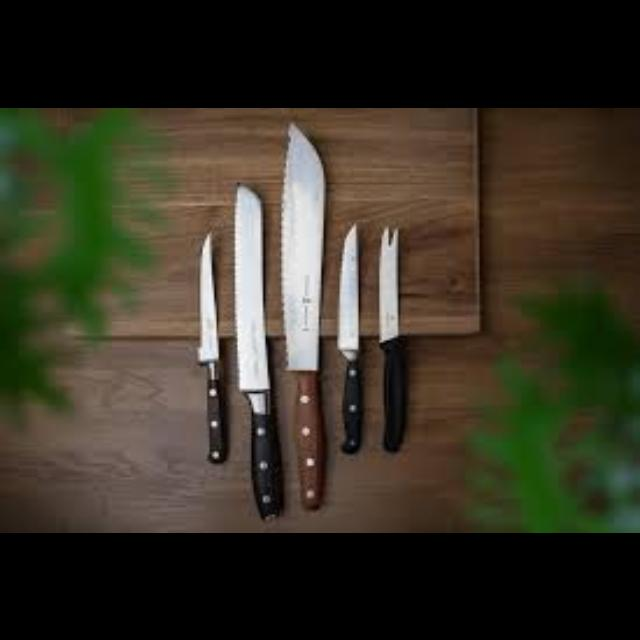Knife: (280, 119, 326, 509), (233, 180, 281, 518), (196, 228, 226, 460), (378, 223, 404, 451), (336, 221, 360, 451)
